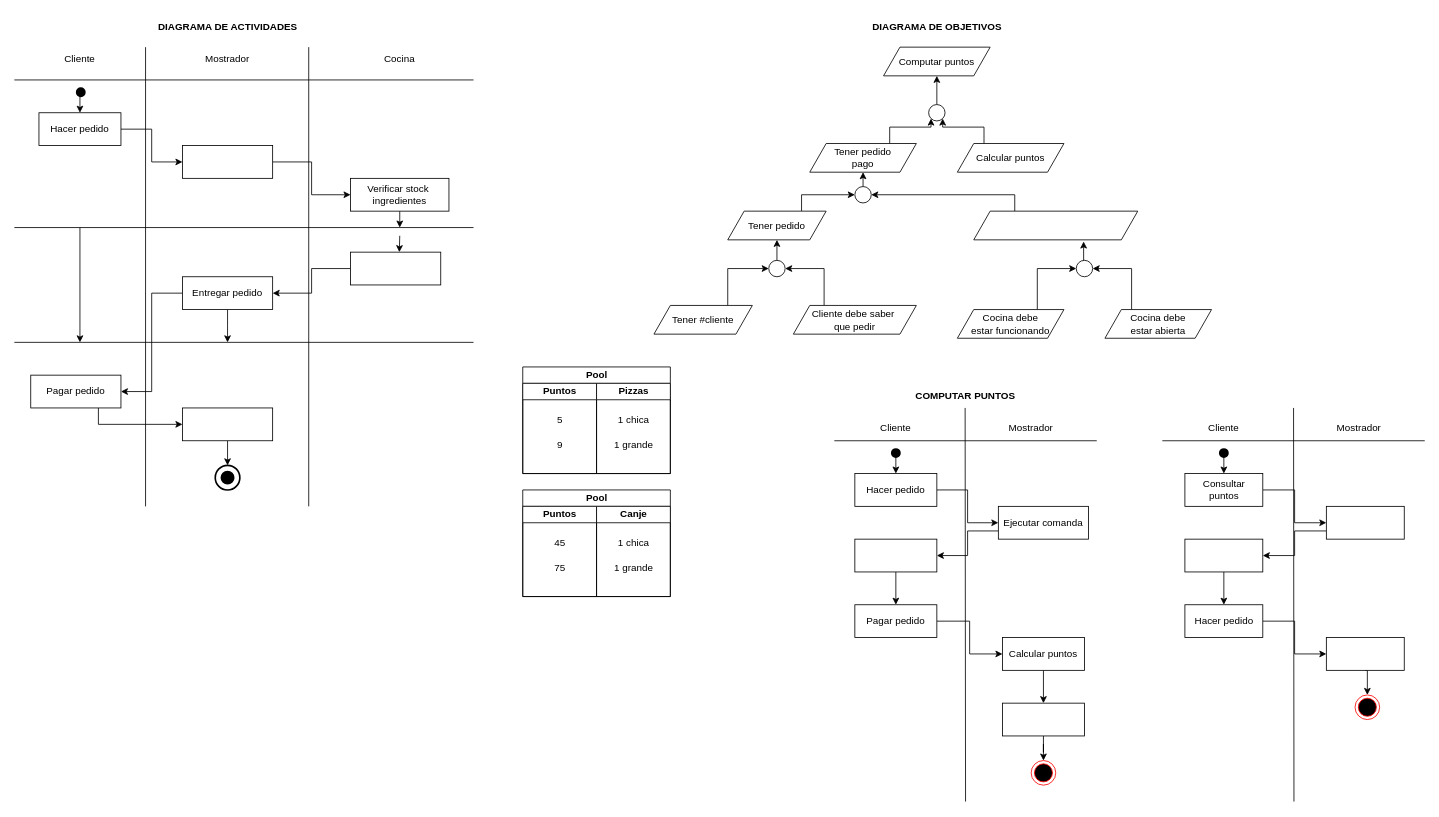
Some shapes in this 1439 by 817 pixel diagram are drawn without their labels. The box of each missing label's shape, as (x1, y1, x2, y2) in pixels:
Acreditar puntos: (1002, 702, 1084, 736)
Calcular y computar puntos: (182, 407, 273, 441)
Cocinar pedido: (350, 251, 441, 285)
Descontar puntos: (1326, 637, 1404, 670)
Elegir opción de canje: (1184, 538, 1263, 572)
Generar comanda: (182, 145, 273, 178)
Informa puntos: (1326, 506, 1404, 539)
Recibir pedido: (854, 538, 937, 572)
Tener ingredientes del pedido: (973, 210, 1138, 240)
